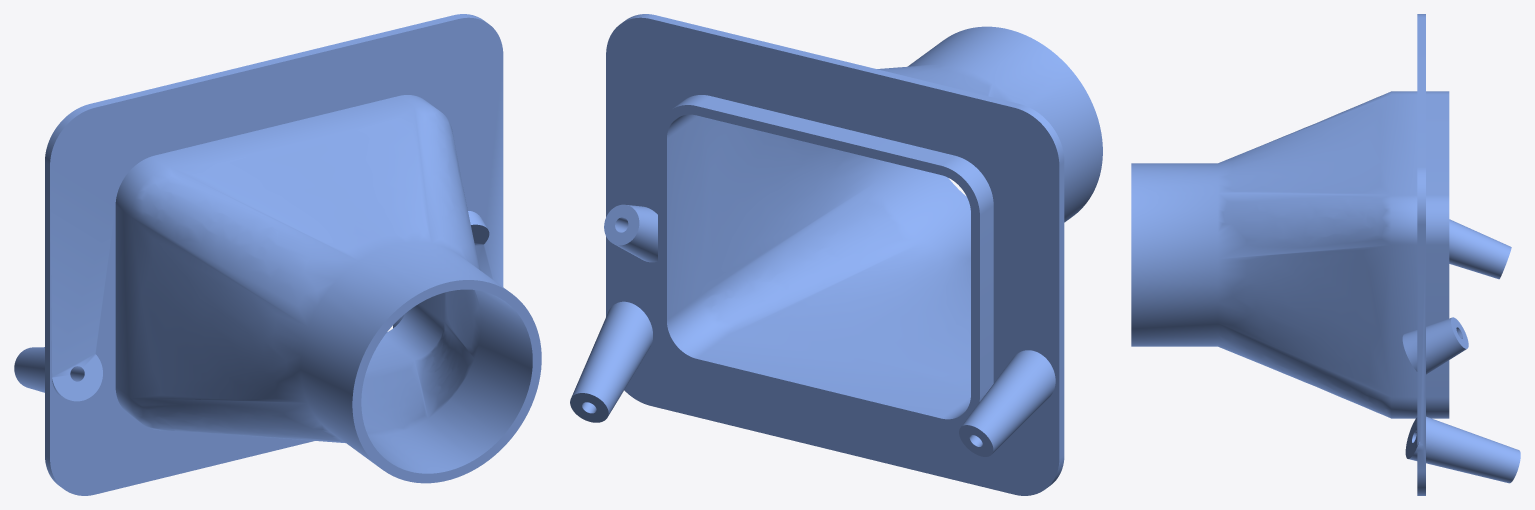
3 renders of one model, left to right at view 1: azimuth 30°, elevation 25°; view 2: azimuth 150°, elevation 25°; view 3: azimuth 270°, elevation 25°, orthographic. The views are drawn at different scales.
Visible parts, largest first — view 1: Option_R005-A-2P5_concept; view 2: Option_R005-A-2P5_concept; view 3: Option_R005-A-2P5_concept.
Part boxes in pixels (x1,y1,x2,y2): Option_R005-A-2P5_concept: (14, 14, 541, 495); Option_R005-A-2P5_concept: (570, 14, 1102, 495); Option_R005-A-2P5_concept: (1131, 14, 1520, 495).
Size of the model in its own units: 0.1524 by 0.124 by 0.1348.
